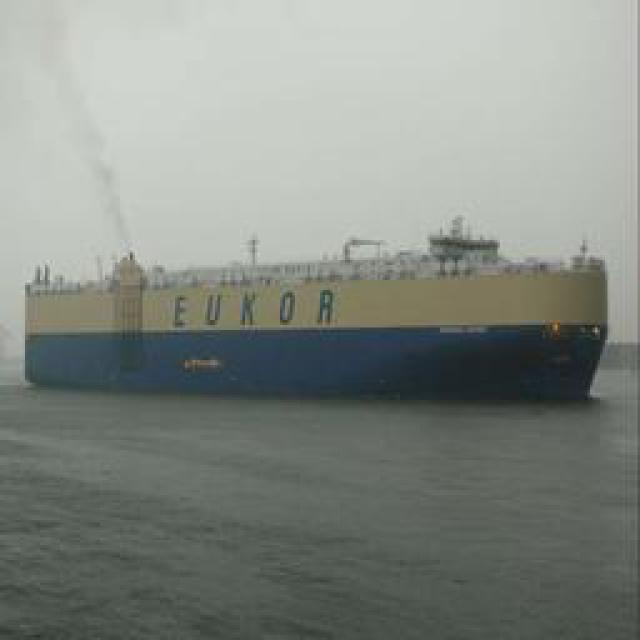Ship: (21, 237, 619, 400)
